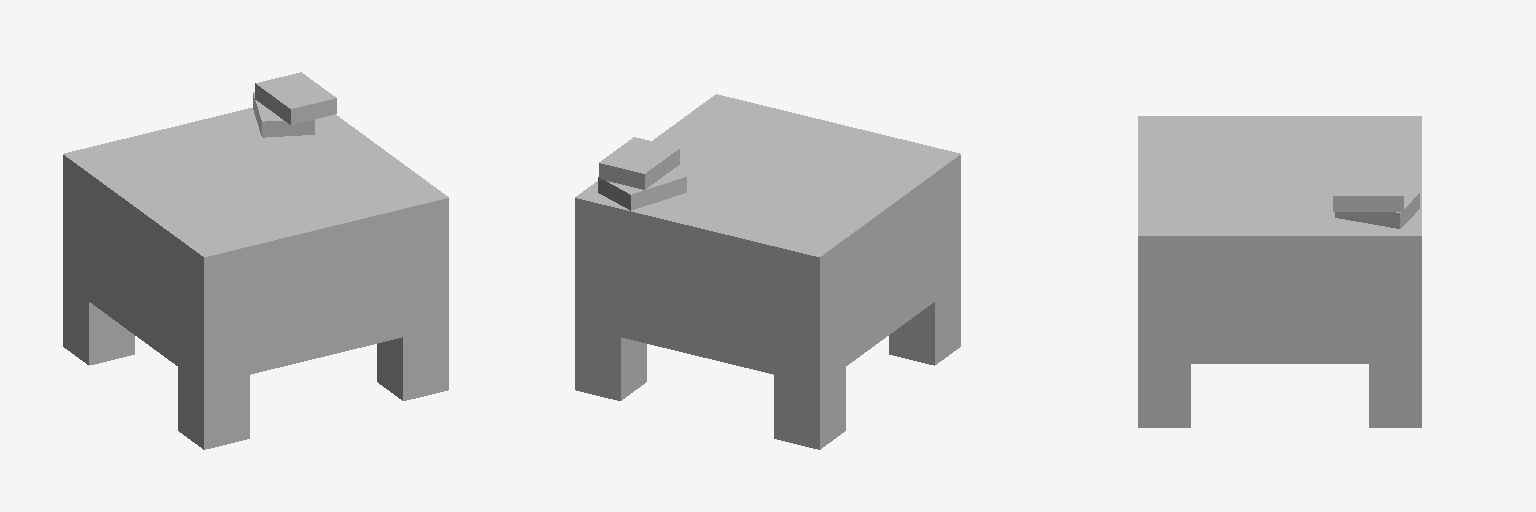
File: exotic_workbench_table.obj
The picture shows the model from 3 angles: view 1: azimuth 30°, elevation 25°; view 2: azimuth 150°, elevation 25°; view 3: azimuth 270°, elevation 25°; orthographic projection.
Visible parts, largest first — view 1: cube; view 2: cube; view 3: cube.
Boxes of the visible parts, x1,y1,x2,y2 form: cube: [63, 72, 448, 449]; cube: [575, 94, 960, 449]; cube: [1138, 116, 1421, 427].
Size of the model in its own units: 16 by 14 by 16.